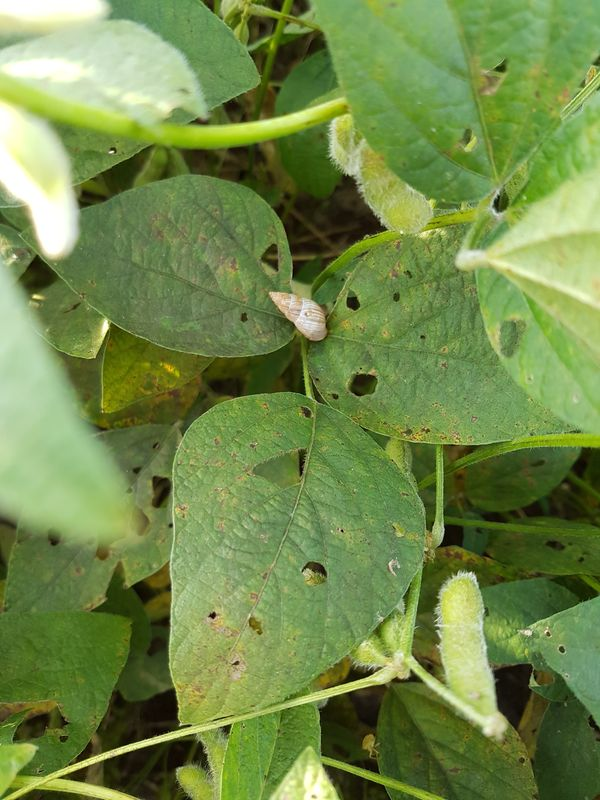Euschistus_heros_ninfa: (354, 728, 387, 764)
Gastropoda: (261, 283, 337, 348)
